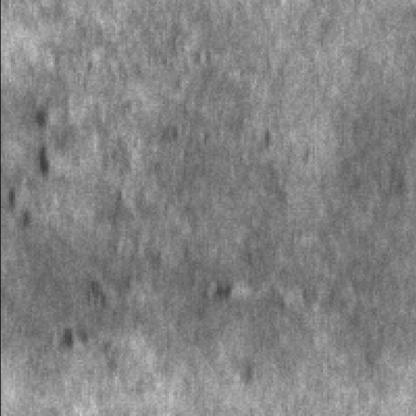rolled-in_scale: (36, 32, 144, 216)
